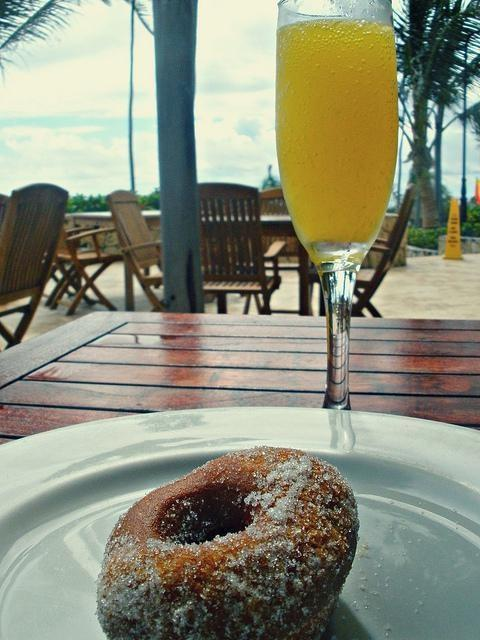glass-wine: (270, 1, 401, 408)
